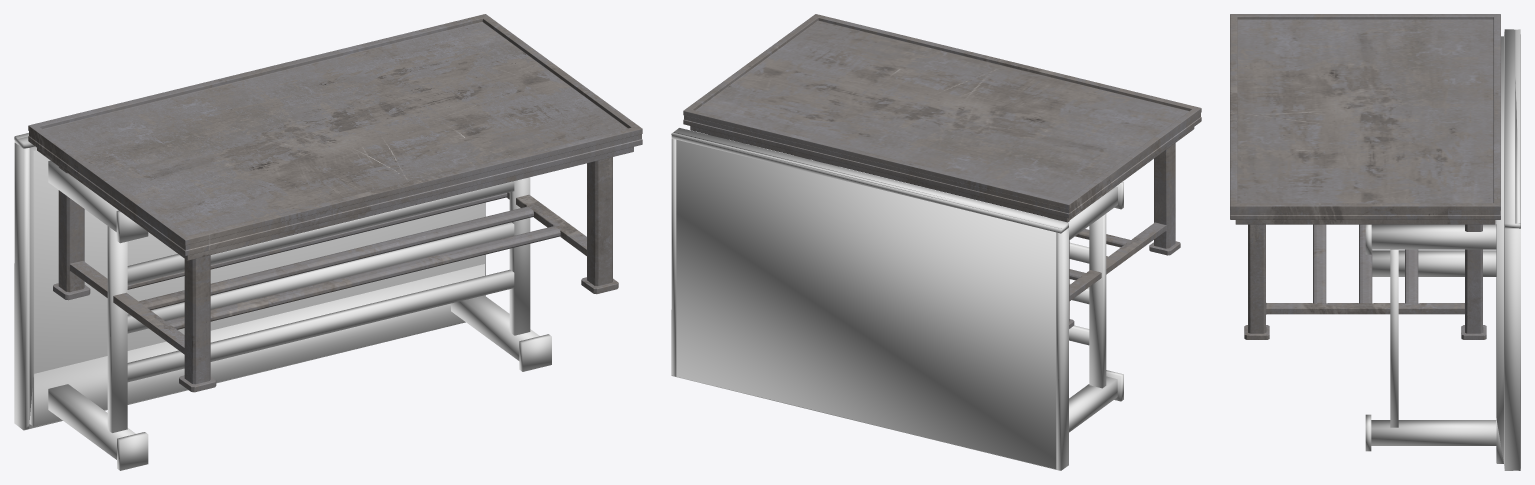
Rendered from SM_TableMetalSmall.fbx.
3 views of the same model, side by side, from view 1: azimuth 30°, elevation 25°; view 2: azimuth 150°, elevation 25°; view 3: azimuth 270°, elevation 25° (orthographic). The views are drawn at different scales.
Visible parts, largest first — view 1: SM_TableMetalSmall, SM_TableMetalSmall_ConvexHulls; view 2: SM_TableMetalSmall_ConvexHulls, SM_TableMetalSmall; view 3: SM_TableMetalSmall, SM_TableMetalSmall_ConvexHulls.
Part boxes in pixels (bbox=[...]): SM_TableMetalSmall: bbox=[28, 14, 642, 392]; SM_TableMetalSmall_ConvexHulls: bbox=[14, 133, 551, 470]; SM_TableMetalSmall_ConvexHulls: bbox=[671, 128, 1123, 470]; SM_TableMetalSmall: bbox=[683, 14, 1201, 328]; SM_TableMetalSmall: bbox=[1230, 14, 1500, 339]; SM_TableMetalSmall_ConvexHulls: bbox=[1365, 29, 1520, 470].
Bounding box in the file's own units: 2.55 × 1.61 × 1.61.
